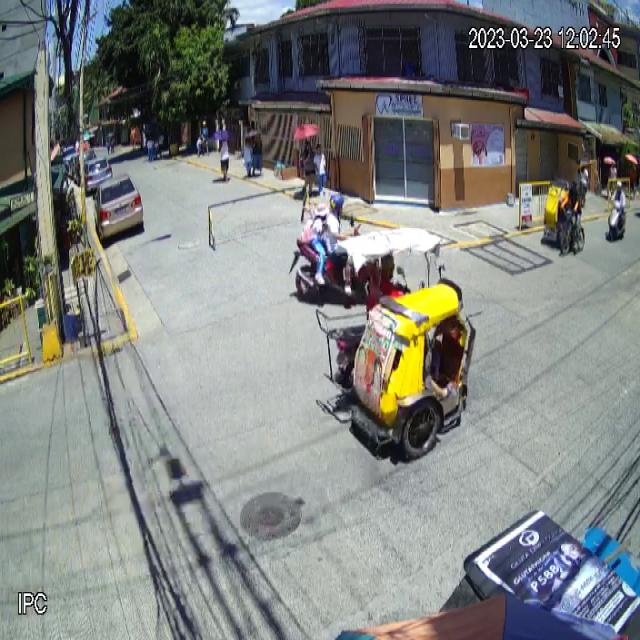Tricycle: (314, 224, 478, 460)
